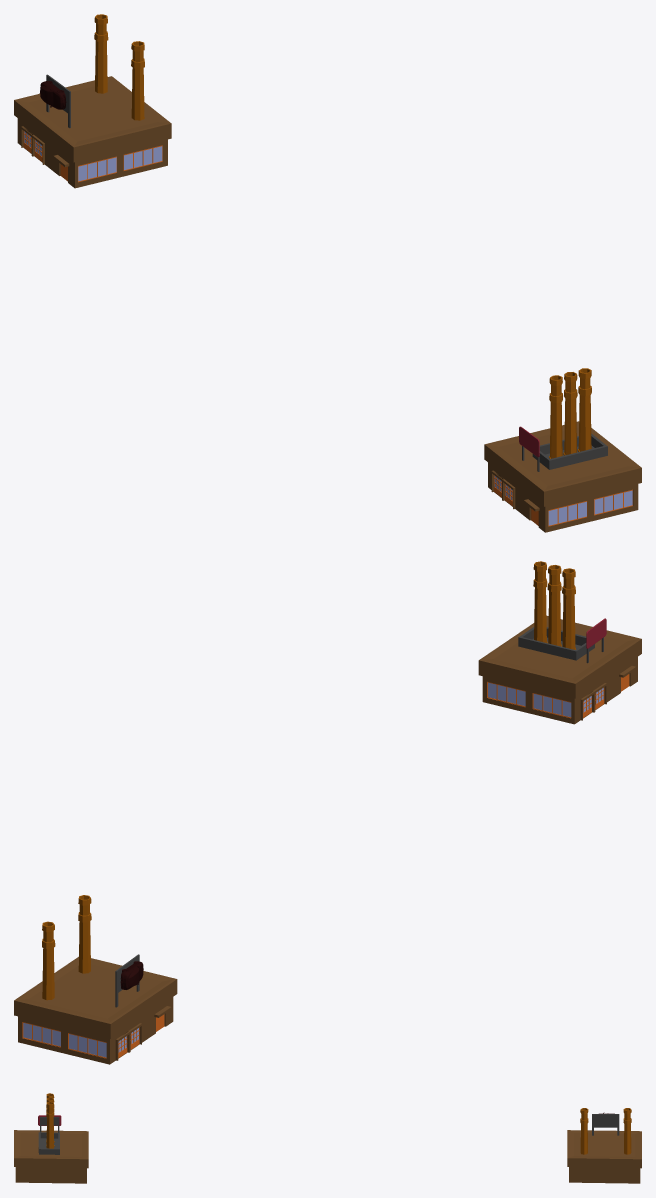
Rendered from Usine Voiture Niv1.fbx.
3 renders of one model, top to bottom at view 1: azimuth 30°, elevation 25°; view 2: azimuth 150°, elevation 25°; view 3: azimuth 270°, elevation 25°, orthographic. The views are drawn at different scales.
Parts seen in each view (by area): view 1: usine.022, usine.025; view 2: usine.022, usine.025; view 3: usine.025, usine.022.
Boxes of the visible parts, x1,y1,x2,y2 form: usine.022: (484, 368, 641, 532); usine.025: (14, 14, 171, 188); usine.022: (478, 561, 641, 724); usine.025: (14, 895, 177, 1064); usine.025: (567, 1108, 641, 1183); usine.022: (14, 1093, 88, 1183).
Bounding box in the file's own units: 760 × 869 × 6811.
